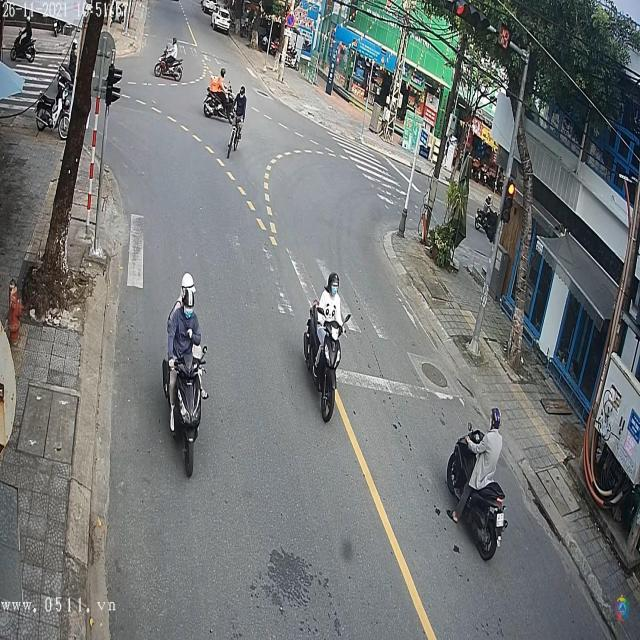motorcycle: (444, 420, 508, 561), (163, 301, 210, 482), (303, 296, 346, 424), (154, 50, 183, 80), (204, 90, 233, 120)
